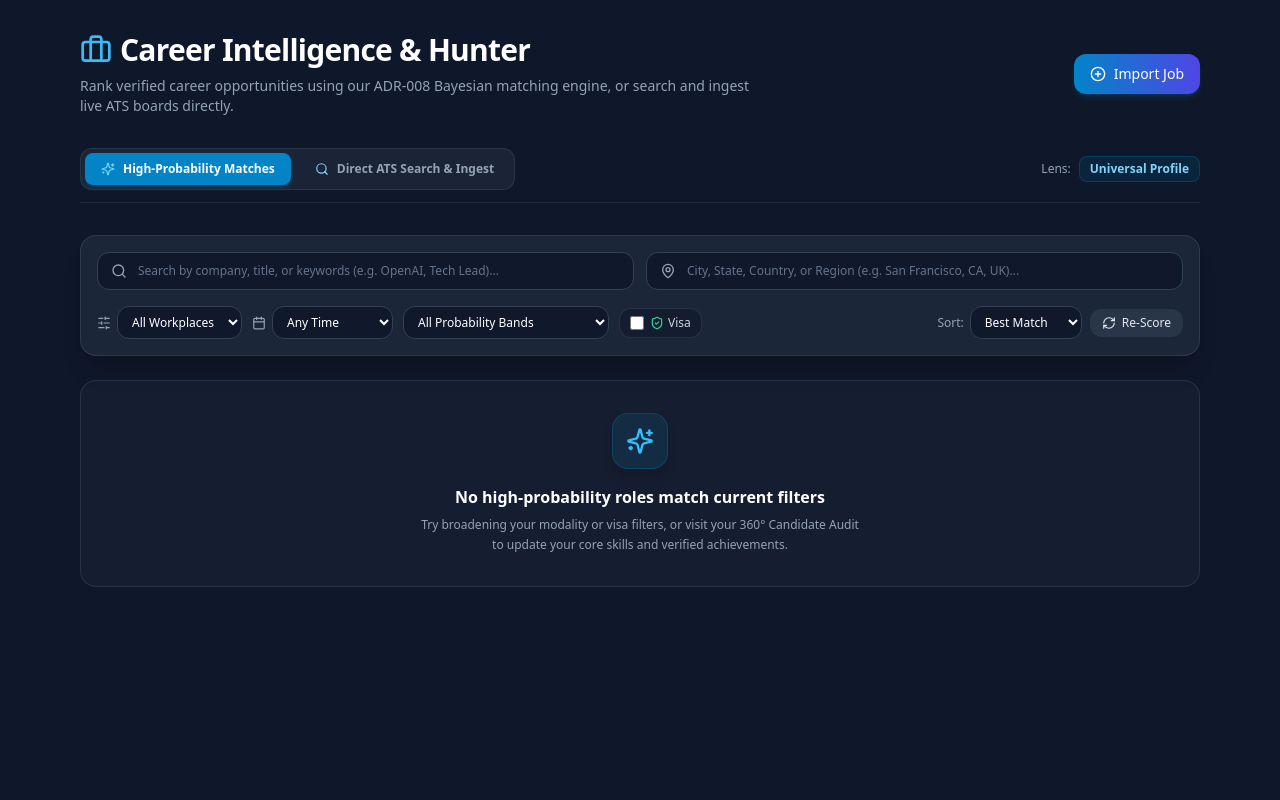
Scenario: Dashboard Dual-Mode: Matches and ATS Search › High-Probability Matches Tab › clears all active filters when clicking Clear All
Replace the text in the field with test id "matches-search-input" with "Anthropic" at (366, 271), box [97, 252, 634, 290]
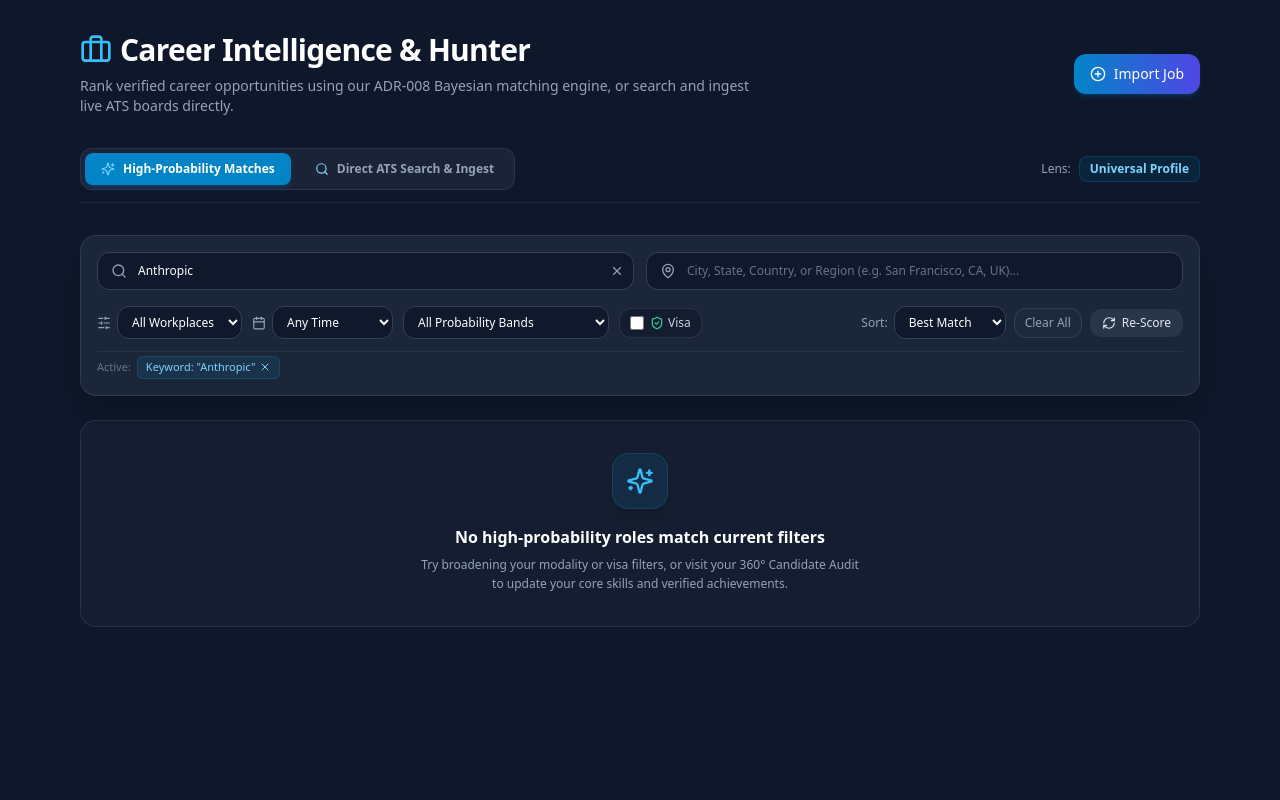
Click the button "Clear All".
click(1048, 322)  # box [1014, 308, 1082, 338]
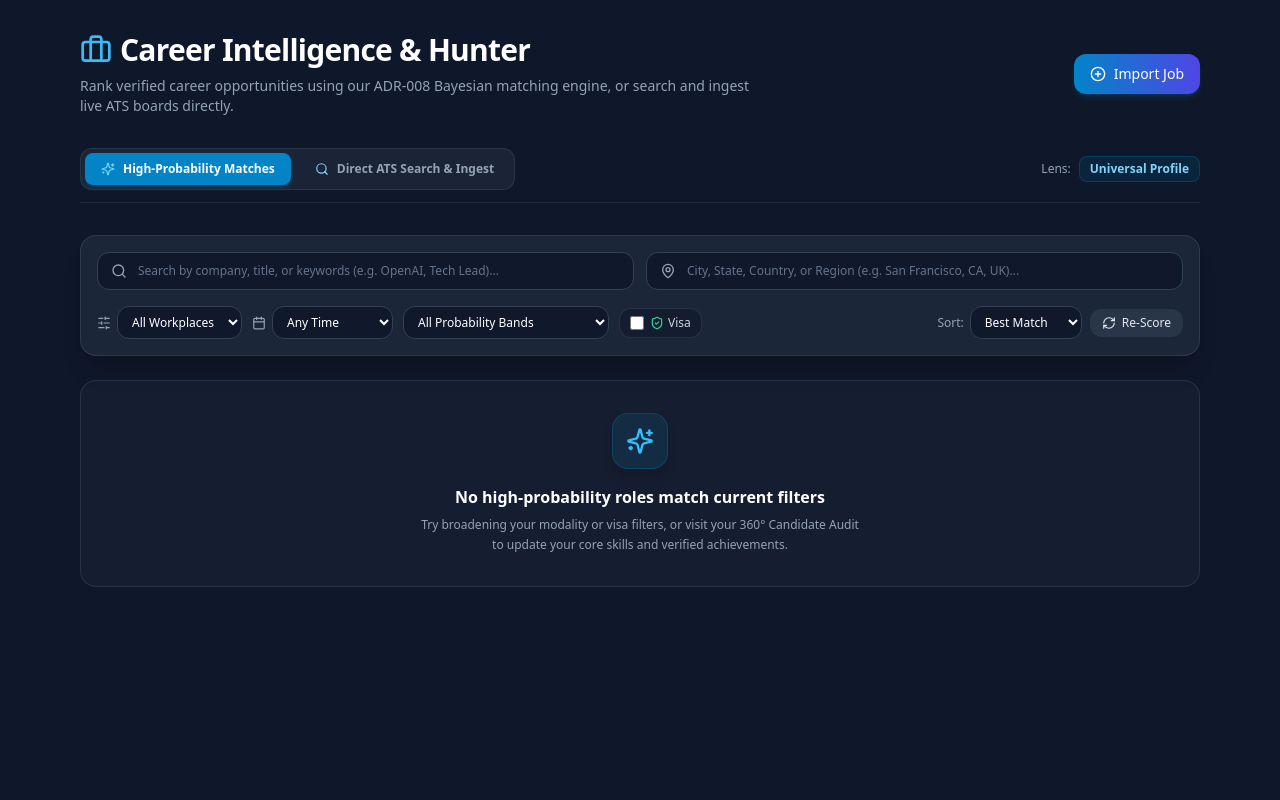
Expected: the field with test id "matches-search-input" is empty, [97, 252, 634, 290]
